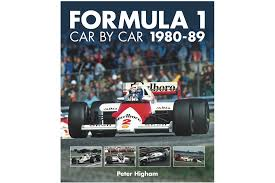FormulaOneCar: (66, 74, 211, 141)
